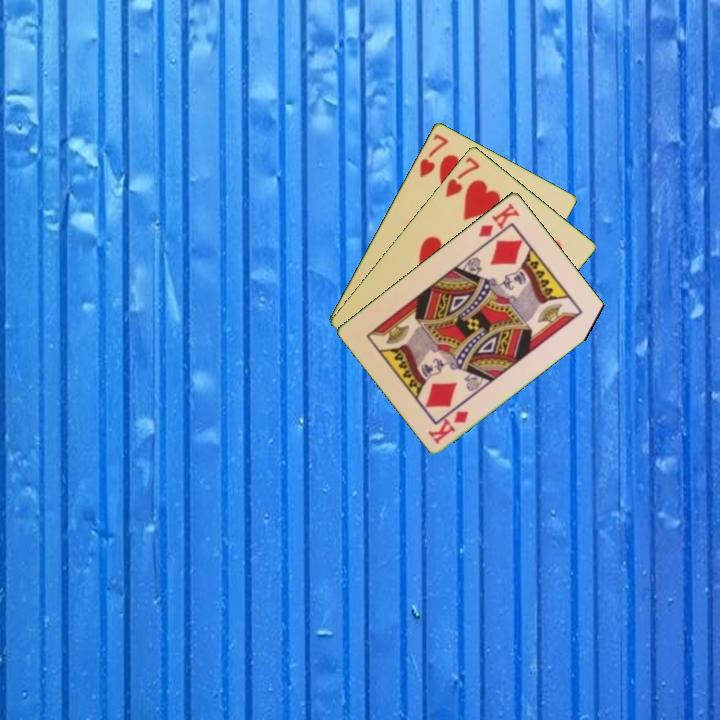7h: (442, 153, 482, 200), (416, 130, 451, 180)
Kd: (475, 199, 523, 240), (425, 407, 472, 447)
